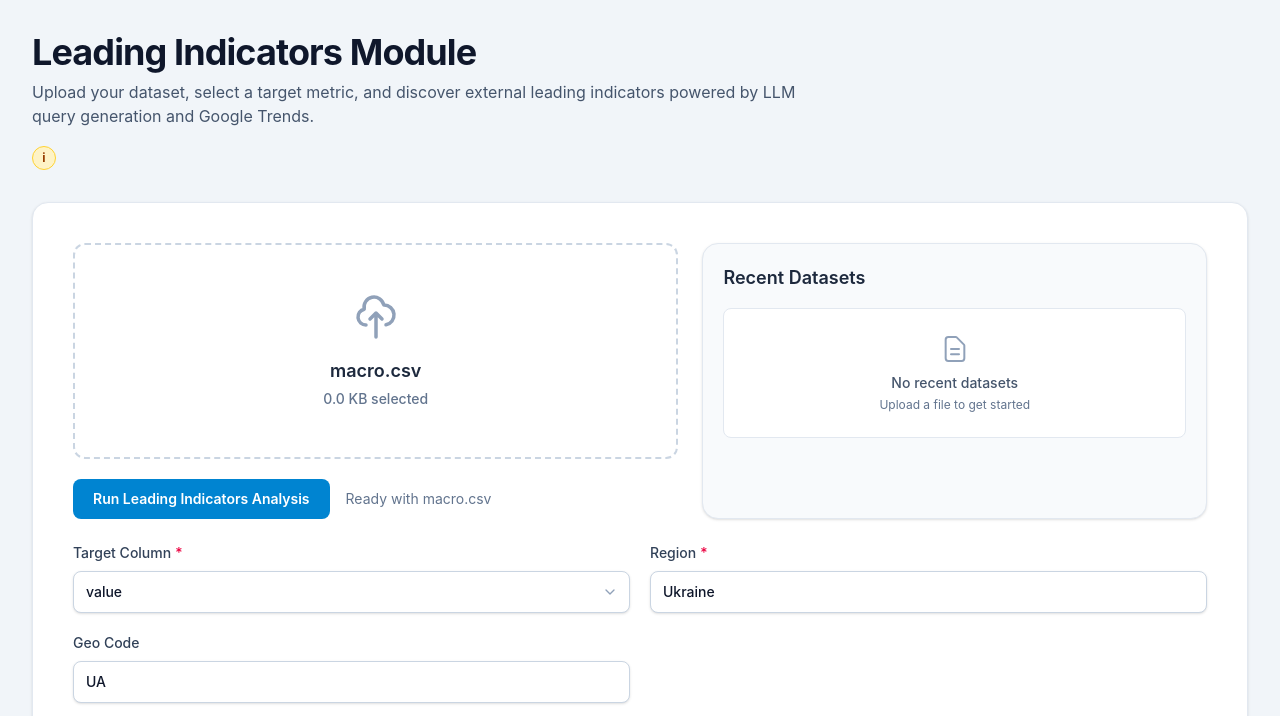
Test: LeadingIndicatorsView › shows a rate limit error when upload is throttled
Click the button "Run Leading Indicators Analysis" at (201, 499), box [73, 479, 330, 519]
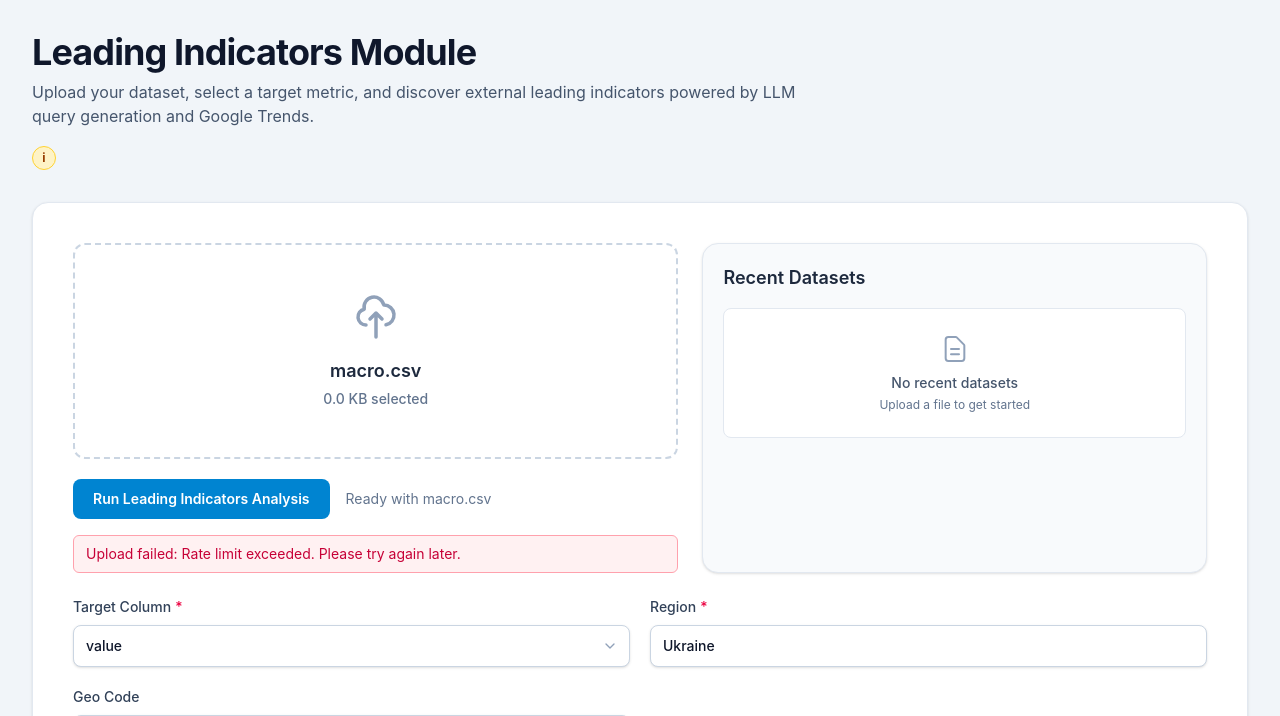
Expected: the text "Upload failed: Rate limit exceeded. Please try again later." is shown, [86, 545, 461, 562]
